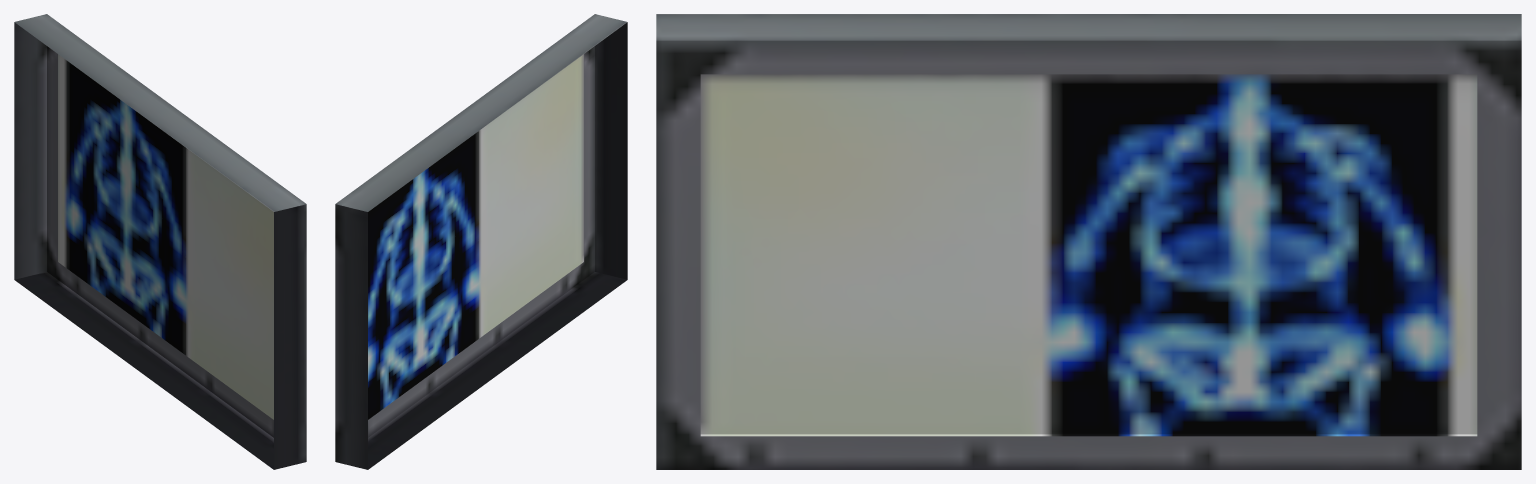
File: Tx_prop_x ray screen_10.fbx
3 renders of one model, left to right at view 1: azimuth 30°, elevation 25°; view 2: azimuth 150°, elevation 25°; view 3: azimuth 270°, elevation 25°, orthographic. The views are drawn at different scales.
Parts seen in each view (by area): view 1: Tx_prop_x_ray_screen_11; view 2: Tx_prop_x_ray_screen_11; view 3: Tx_prop_x_ray_screen_11.
Boxes of the visible parts, x1=… form: Tx_prop_x_ray_screen_11: x1=14, y1=14, x2=306, y2=469; Tx_prop_x_ray_screen_11: x1=335, y1=14, x2=627, y2=469; Tx_prop_x_ray_screen_11: x1=656, y1=14, x2=1521, y2=469.
Size of the model in its own units: 0.5539 by 4.16 by 7.6.
